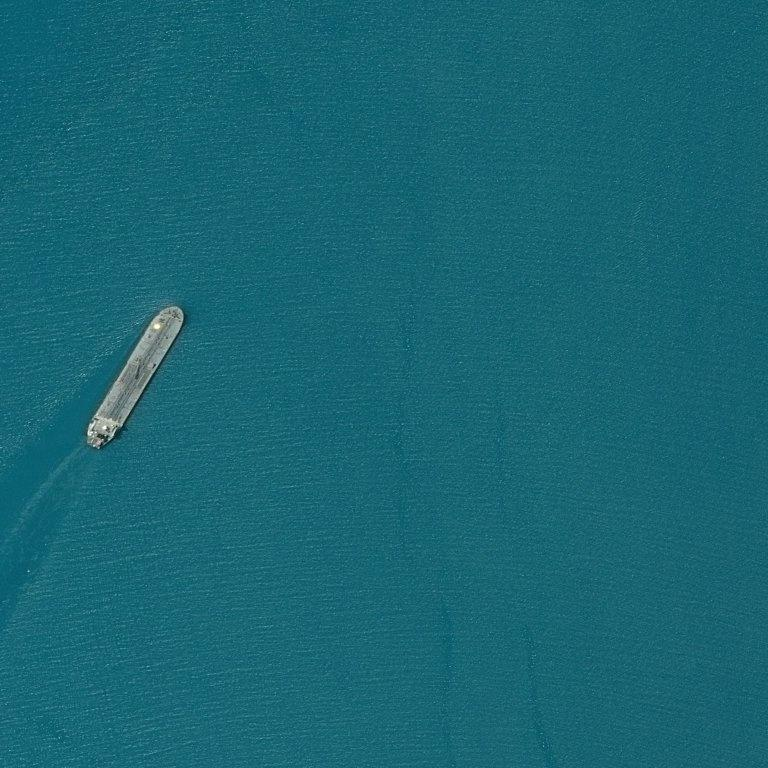ship: (44, 341, 71, 417), (172, 306, 182, 314), (72, 444, 81, 451), (82, 439, 89, 448)
